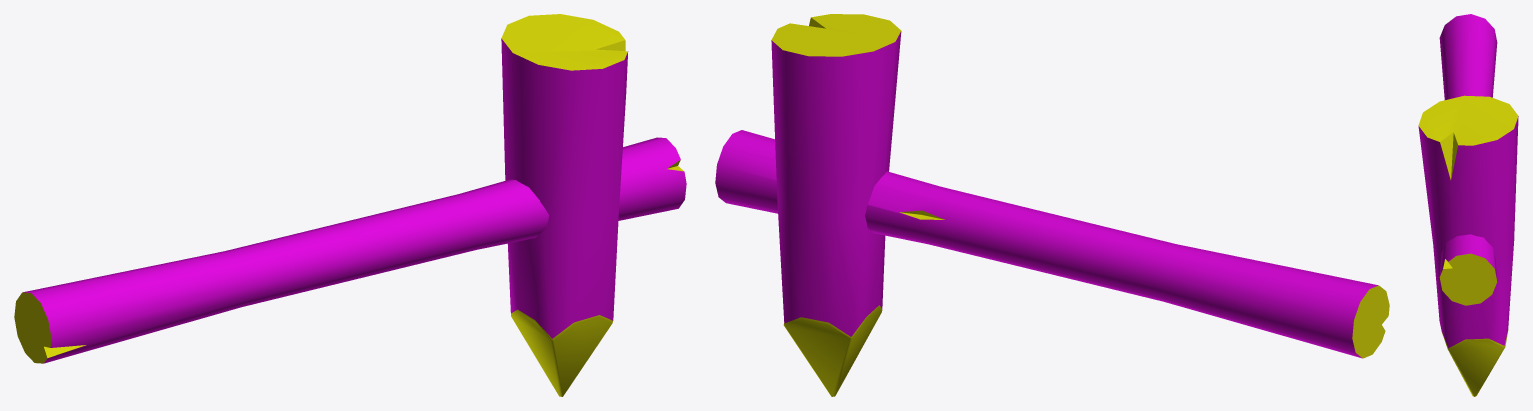
The model's file is F_LogFence002.fbx.
3 renders of one model, left to right at view 1: azimuth 30°, elevation 25°; view 2: azimuth 150°, elevation 25°; view 3: azimuth 270°, elevation 25°, orthographic. The views are drawn at different scales.
Visible parts, largest first — view 1: Cylinder026; view 2: Cylinder026; view 3: Cylinder026.
Part boxes in pixels (x1,y1,x2,y2): Cylinder026: (14, 14, 686, 396); Cylinder026: (715, 14, 1389, 396); Cylinder026: (1418, 14, 1518, 396).
Bounding box in the file's own units: 161 × 87.82 × 28.39.
